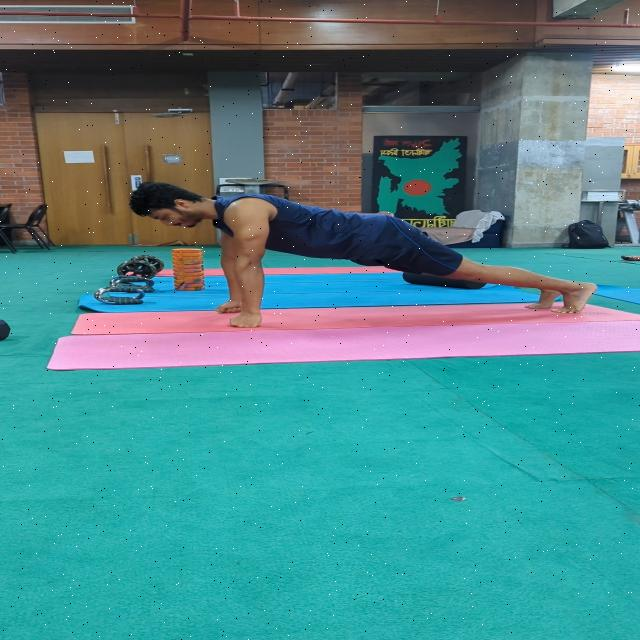Normal_PushUps: (119, 176, 596, 336)
